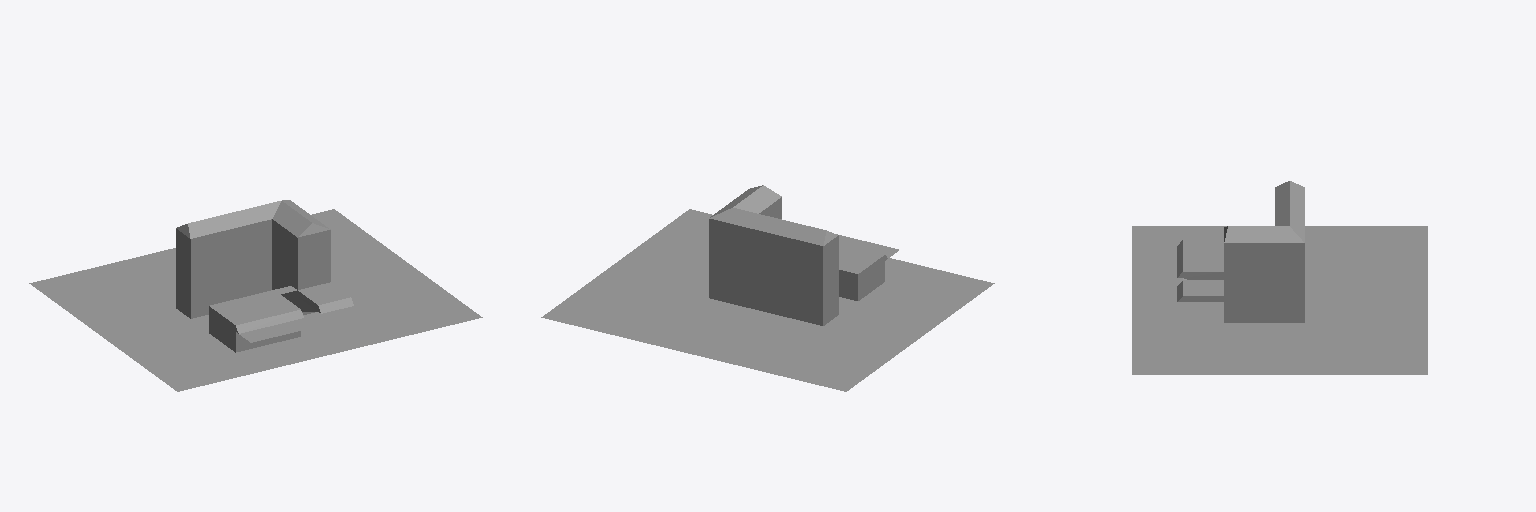
Rendered from escola.obj.
3 renders of one model, left to right at view 1: azimuth 30°, elevation 25°; view 2: azimuth 150°, elevation 25°; view 3: azimuth 270°, elevation 25°, orthographic.
Parts seen in each view (by area): view 1: Cube.001; view 2: Cube.001; view 3: Cube.001.
Boxes of the visible parts, x1=… form: Cube.001: x1=29, y1=200, x2=482, y2=391; Cube.001: x1=541, y1=185, x2=994, y2=391; Cube.001: x1=1132, y1=181, x2=1427, y2=374.
Size of the model in its own units: 73.07 by 20.39 by 61.53.